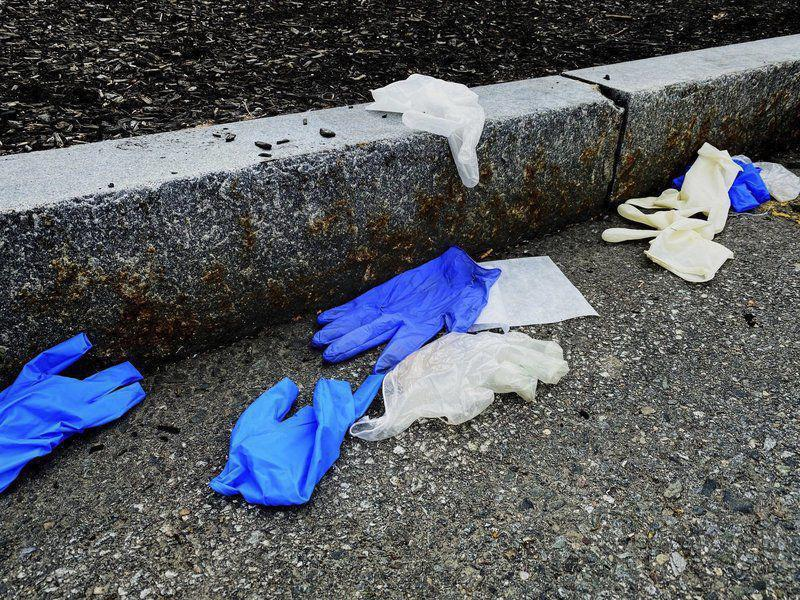gloves: (297, 238, 503, 374), (196, 369, 386, 514), (1, 326, 148, 505), (343, 330, 576, 442), (593, 141, 742, 288), (358, 70, 498, 195)
